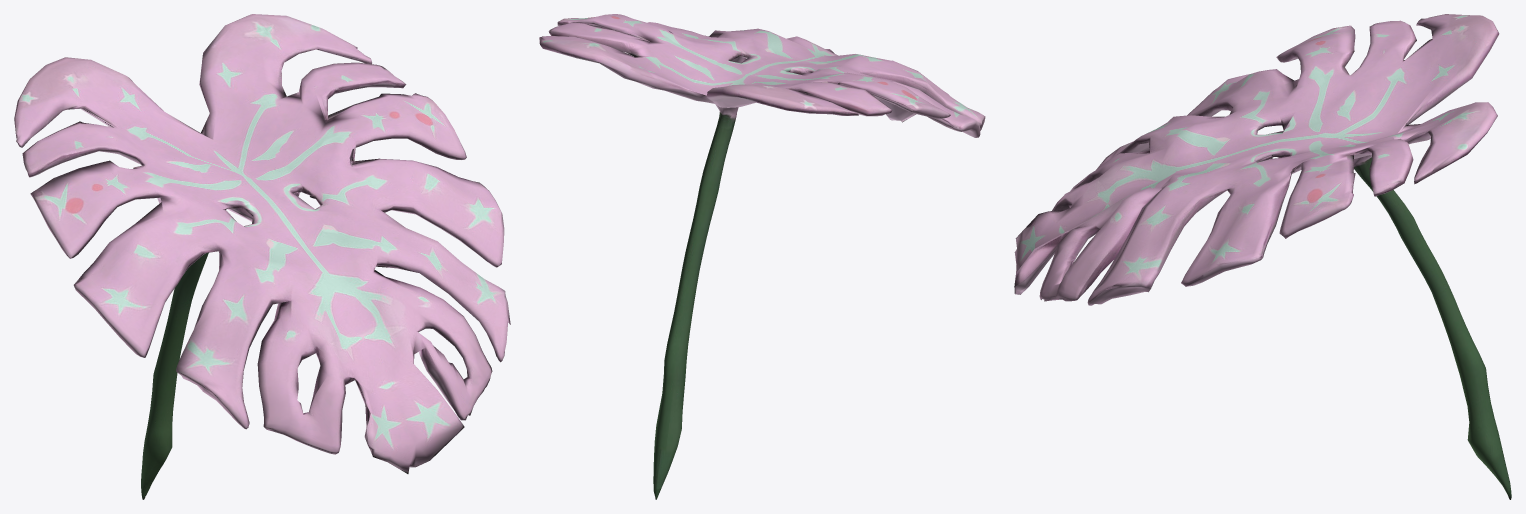
File: mon_rose_pink_v2.glb
3 views of the same model, side by side, from view 1: azimuth 30°, elevation 25°; view 2: azimuth 150°, elevation 25°; view 3: azimuth 270°, elevation 25° (orthographic). The views are drawn at different scales.
Parts seen in each view (by area): view 1: world; view 2: world; view 3: world.
Boxes of the visible parts, <box> form: world: <box>14,14,510,499</box>; world: <box>539,14,985,499</box>; world: <box>1014,14,1511,499</box>.
Bounding box in the file's own units: 1.76 × 1.92 × 2.
Materials: 1 (1 with a texture image).
